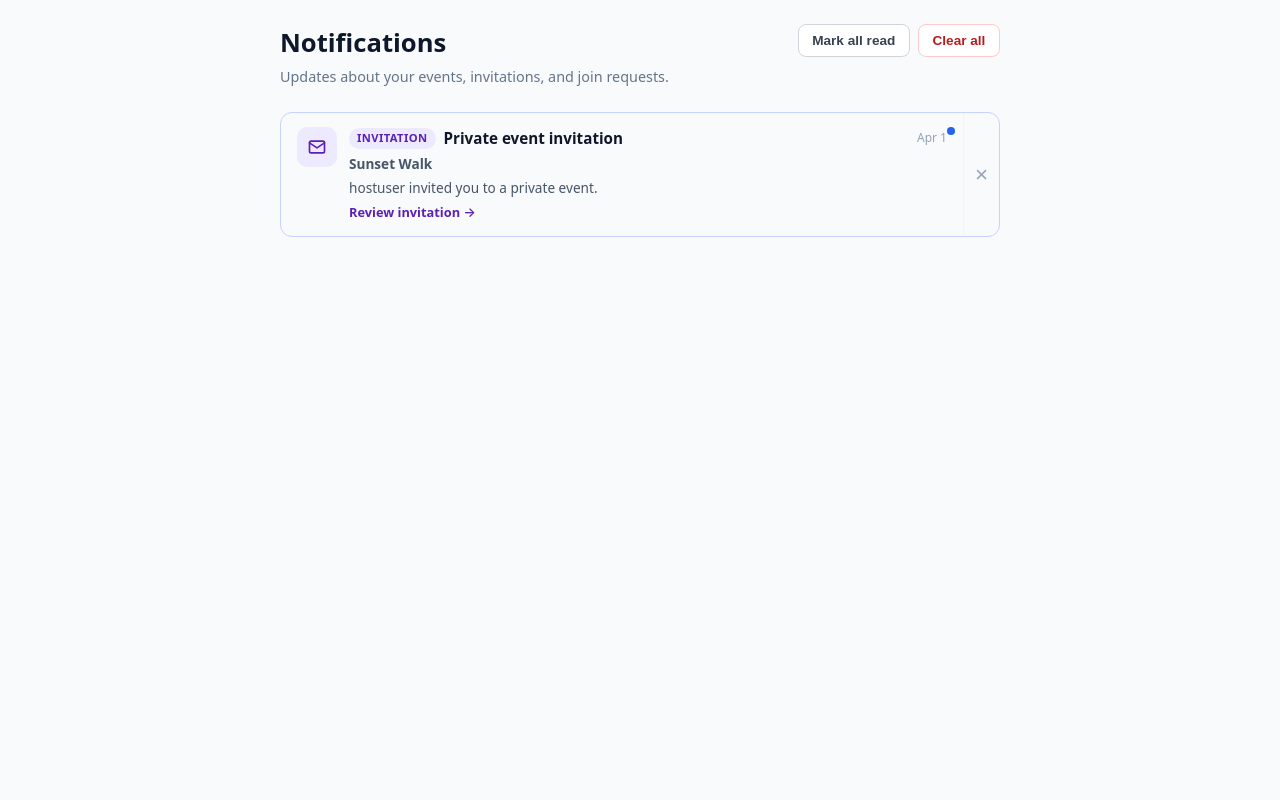
Scenario: NotificationsPage invitation modal › opens invitation details from an invitation notification and fetches by invitation id
The image size is (1280, 800).
What coordinates should you click on to do the following:
click the button with aria-label "review invitation"
I would click on:
 (317, 147)
Its box is [281,113,963,236].
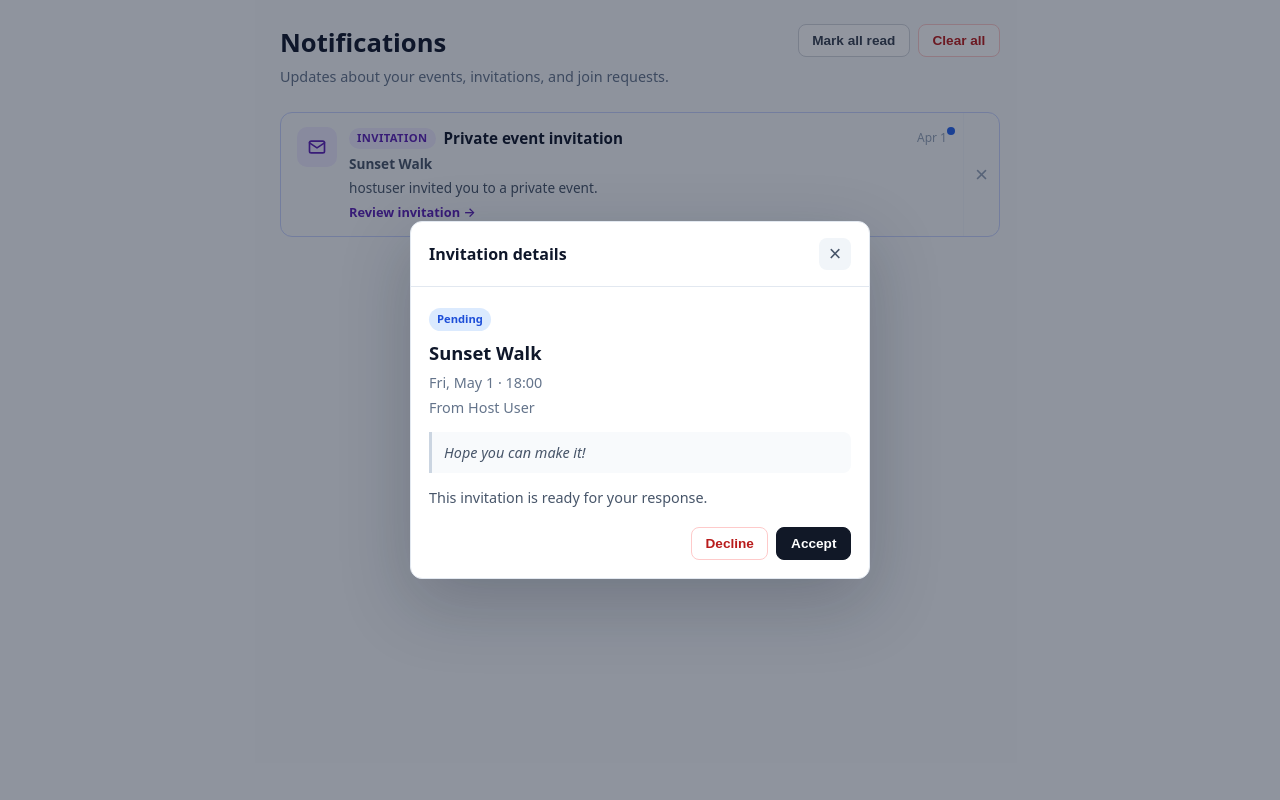
Result: the dialog "Invitation details" is shown at [410,221,870,579]
Result: the heading "Sunset Walk" is shown at [429,340,542,365]
Result: the text "Hope you can make it!" is shown at [429,432,851,473]
